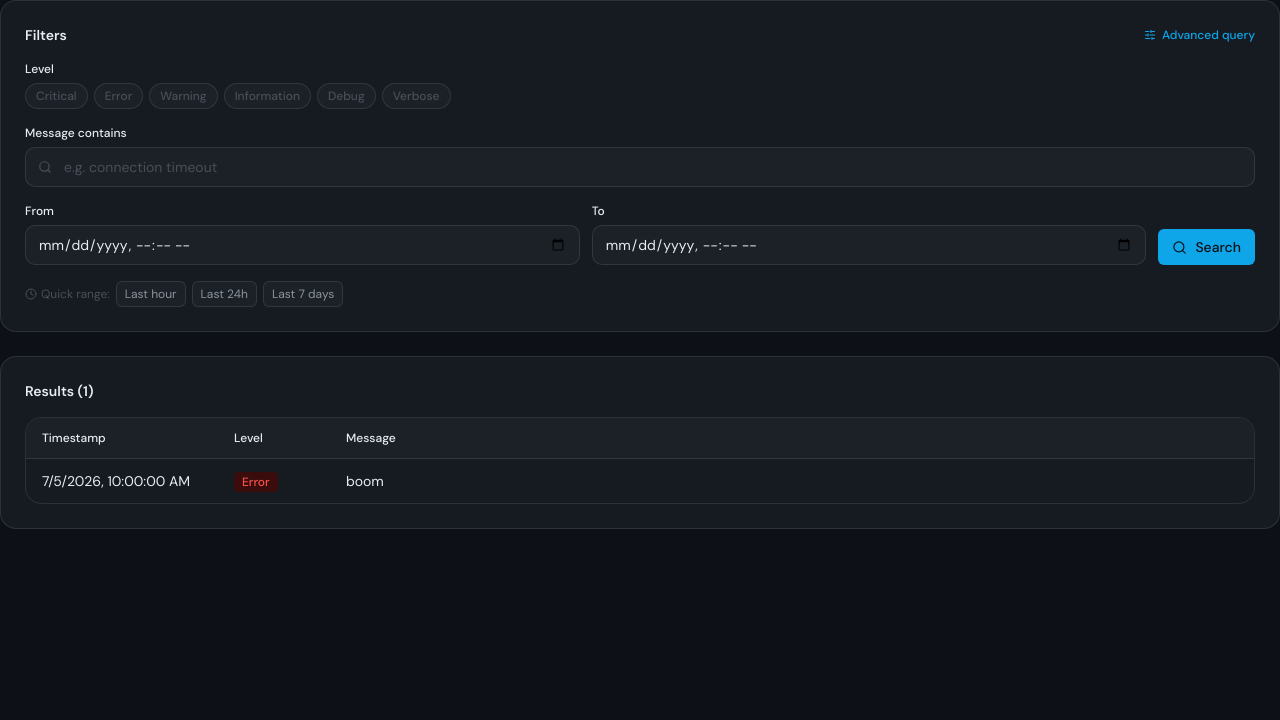
Test: AnalyticsPage › filtrira po nivou klikom na dugme i prikazuje aktivan filter
Click the button "Error".
click(118, 96)  # box x1=94 y1=83 x2=143 y2=109
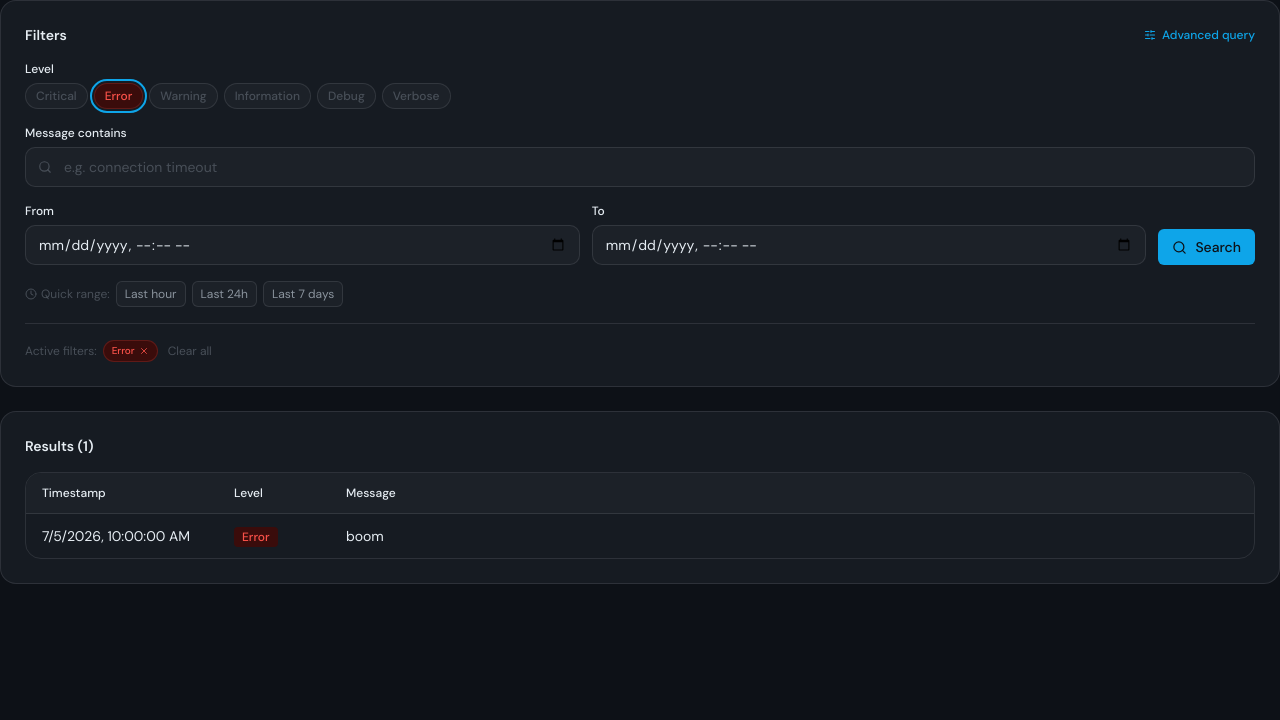
Expected: the text "boom" is shown, x1=346 y1=527 x2=384 y2=545
Result: the text "Active filters:" is shown at x1=25 y1=343 x2=97 y2=359
Result: the button "Clear all" is shown at x1=168 y1=343 x2=212 y2=359
